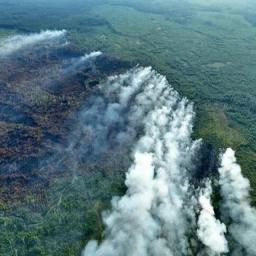Heavy smoke: (0, 31, 256, 256)
